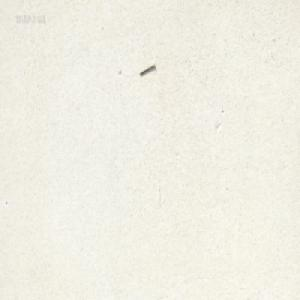Bolt: (139, 63, 155, 75)
